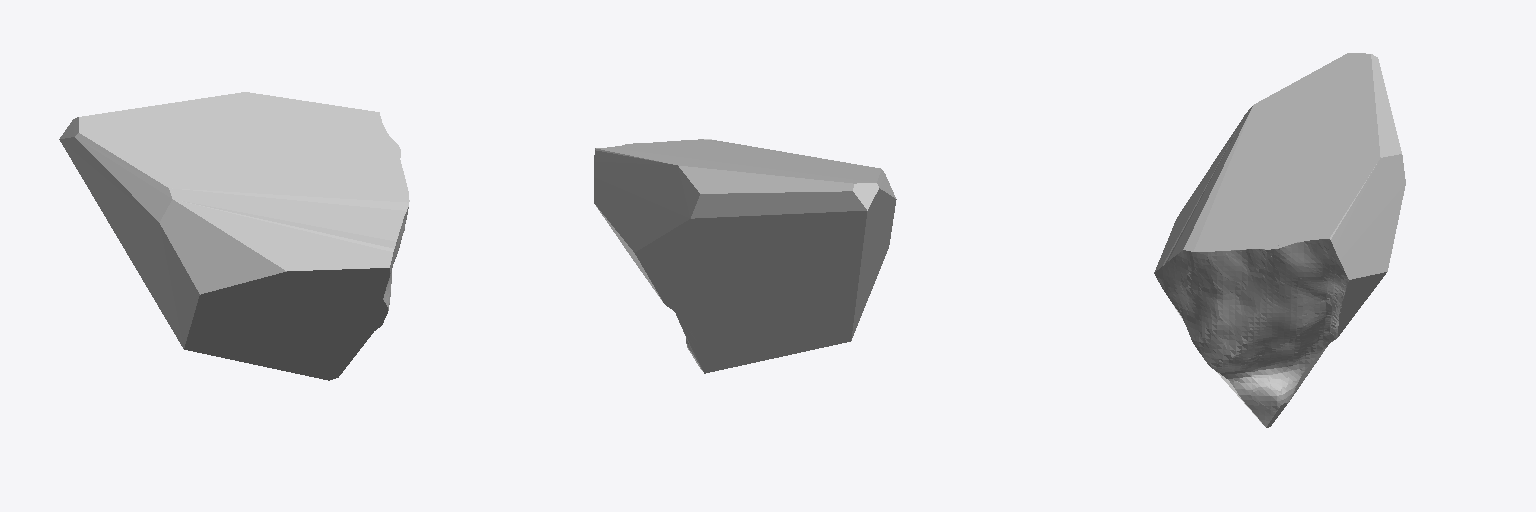
File: low_cell_098.obj
3 renders of one model, left to right at view 1: azimuth 30°, elevation 25°; view 2: azimuth 150°, elevation 25°; view 3: azimuth 270°, elevation 25°, orthographic.
Parts seen in each view (by area): view 1: low_cell.098_low_cell.097; view 2: low_cell.098_low_cell.097; view 3: low_cell.098_low_cell.097.
Part boxes in pixels (x1,y1,x2,y2): low_cell.098_low_cell.097: (59, 92, 409, 380); low_cell.098_low_cell.097: (594, 139, 896, 373); low_cell.098_low_cell.097: (1154, 53, 1405, 427).
Size of the model in its own units: 1.13 by 1.01 by 0.8351.